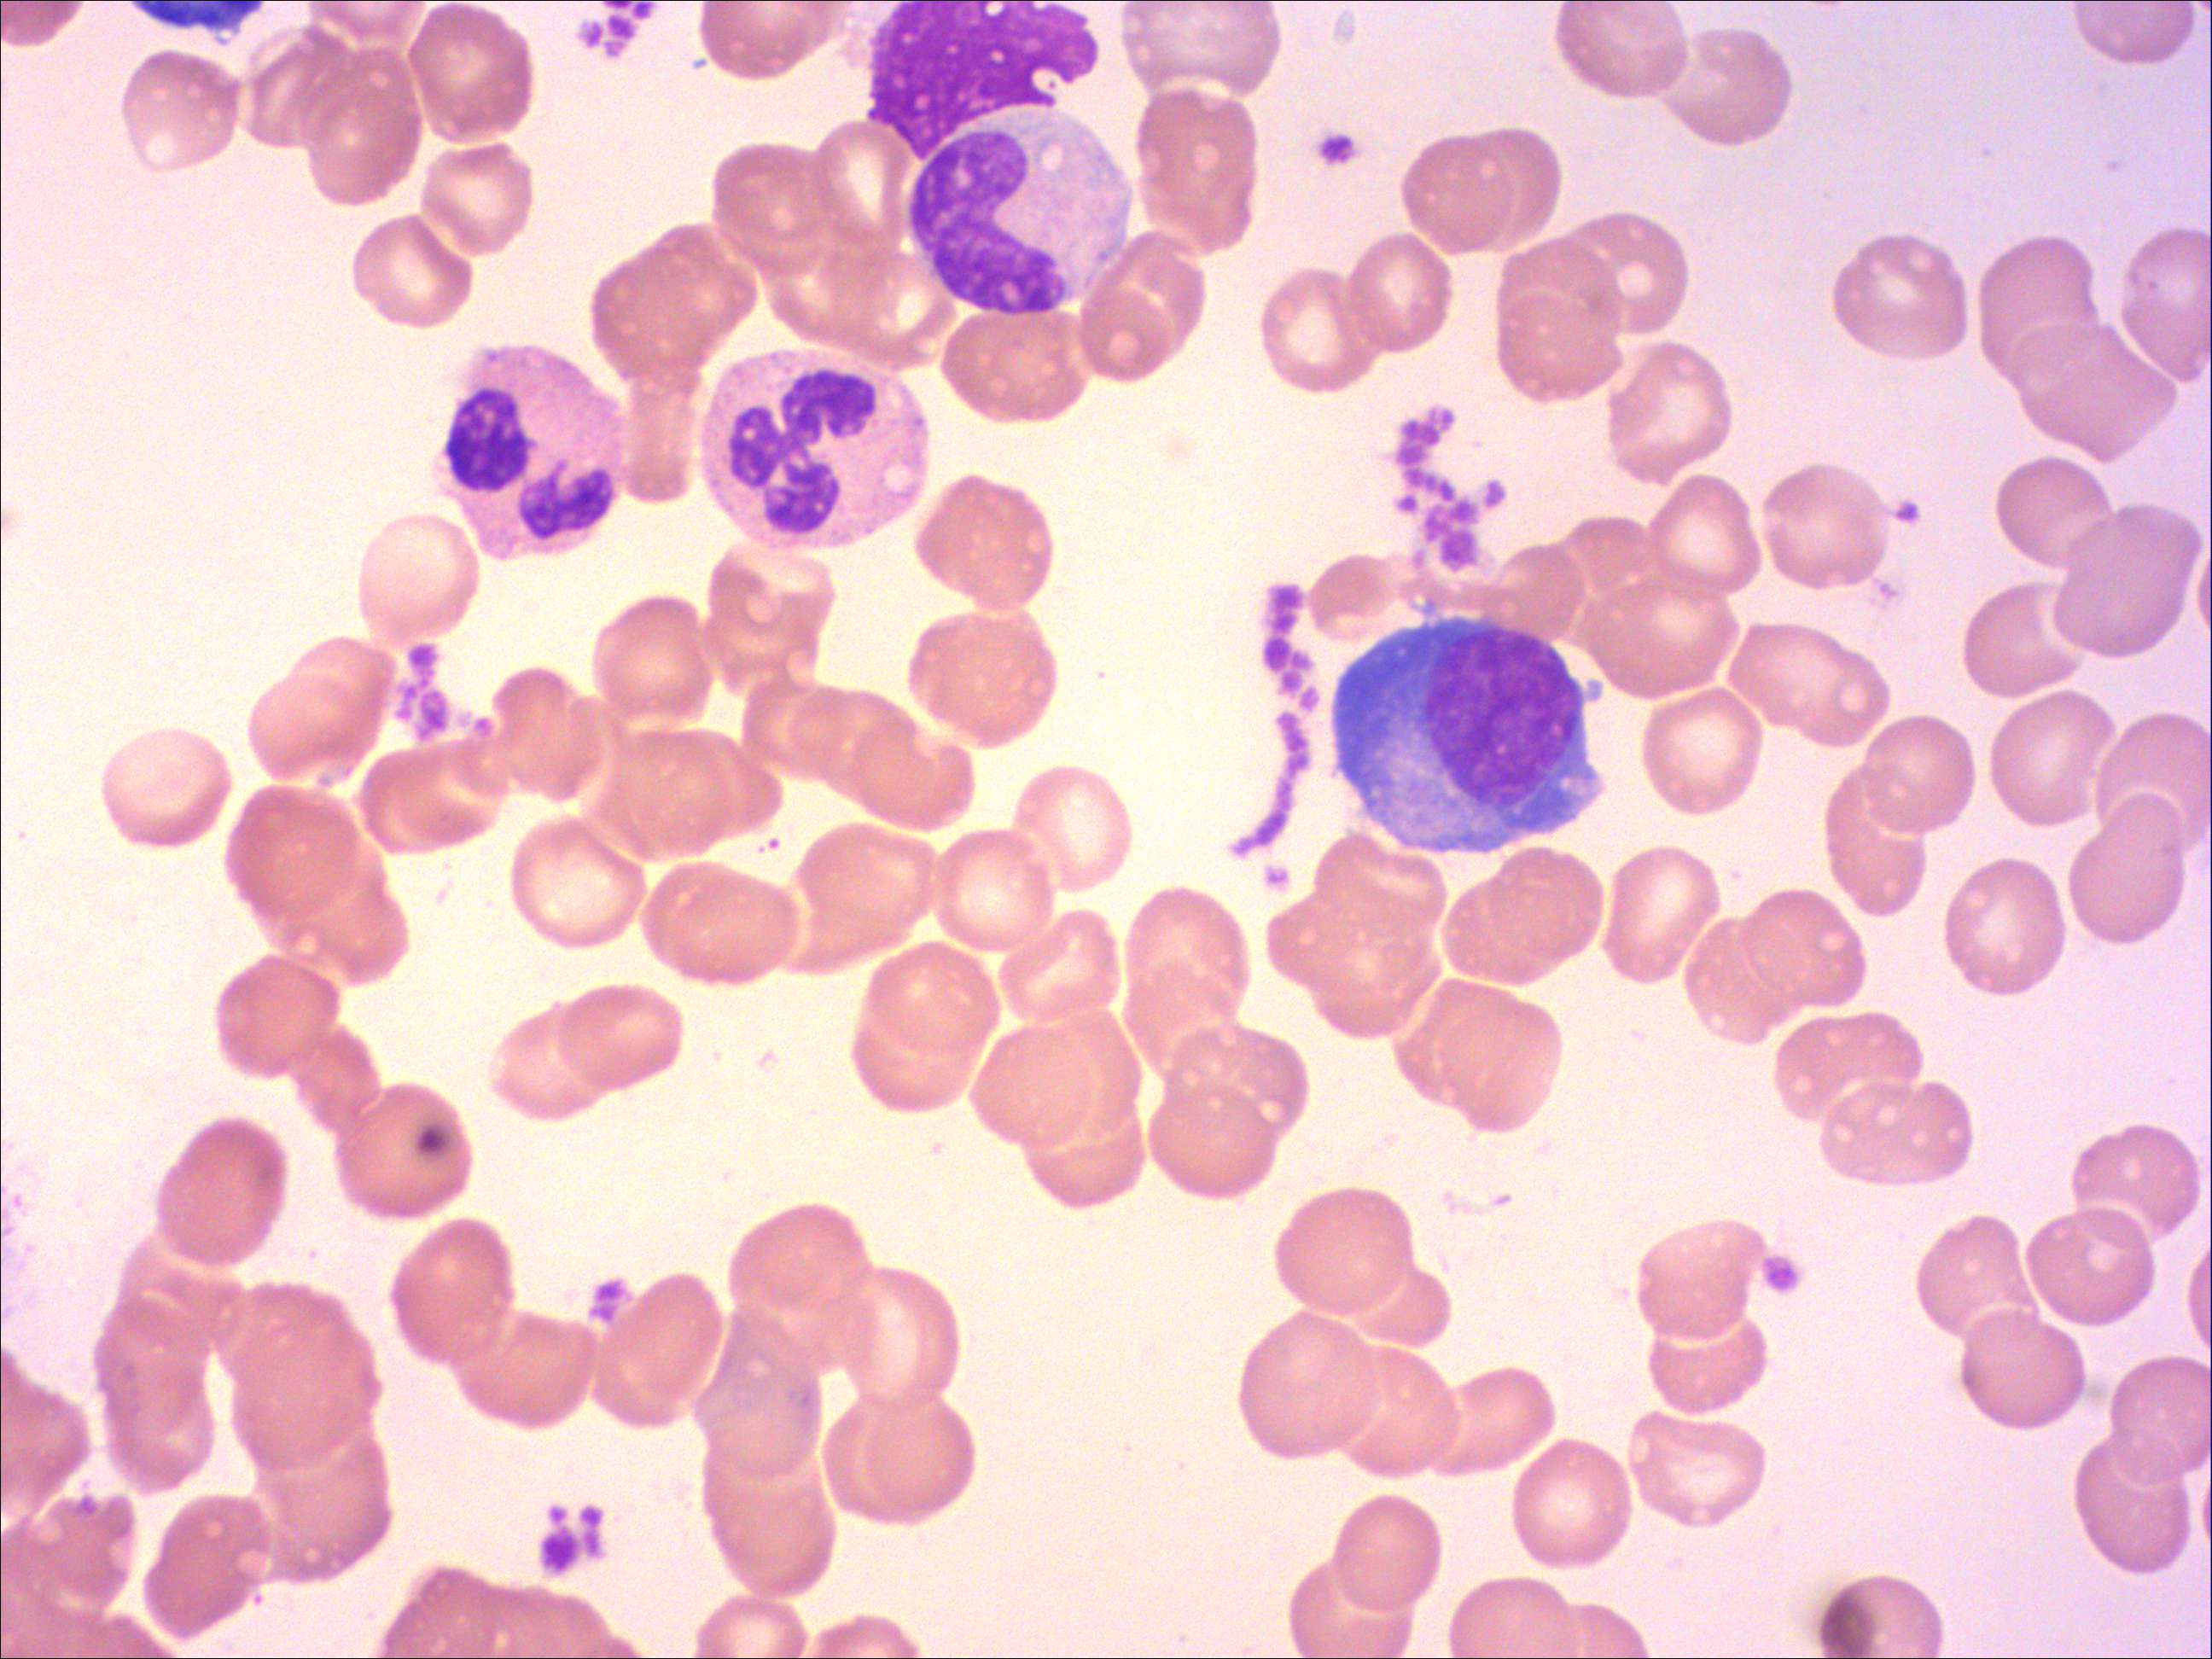42: (902, 101, 1139, 321)
51: (1327, 608, 1609, 864)
6: (690, 343, 935, 559), (427, 336, 637, 570)
x: (864, 0, 1104, 166)
